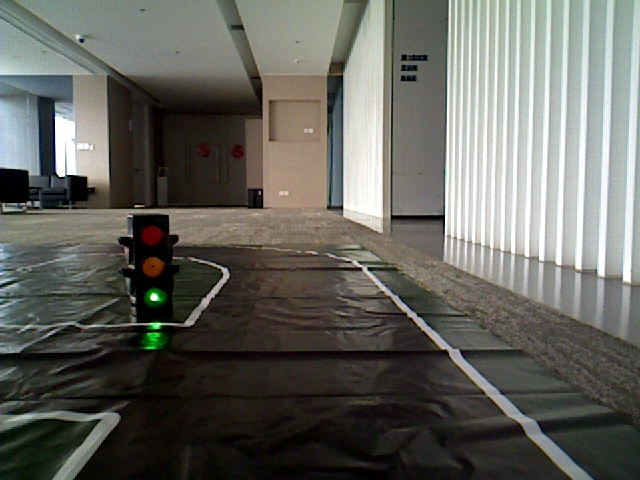green: (129, 217, 171, 308)
